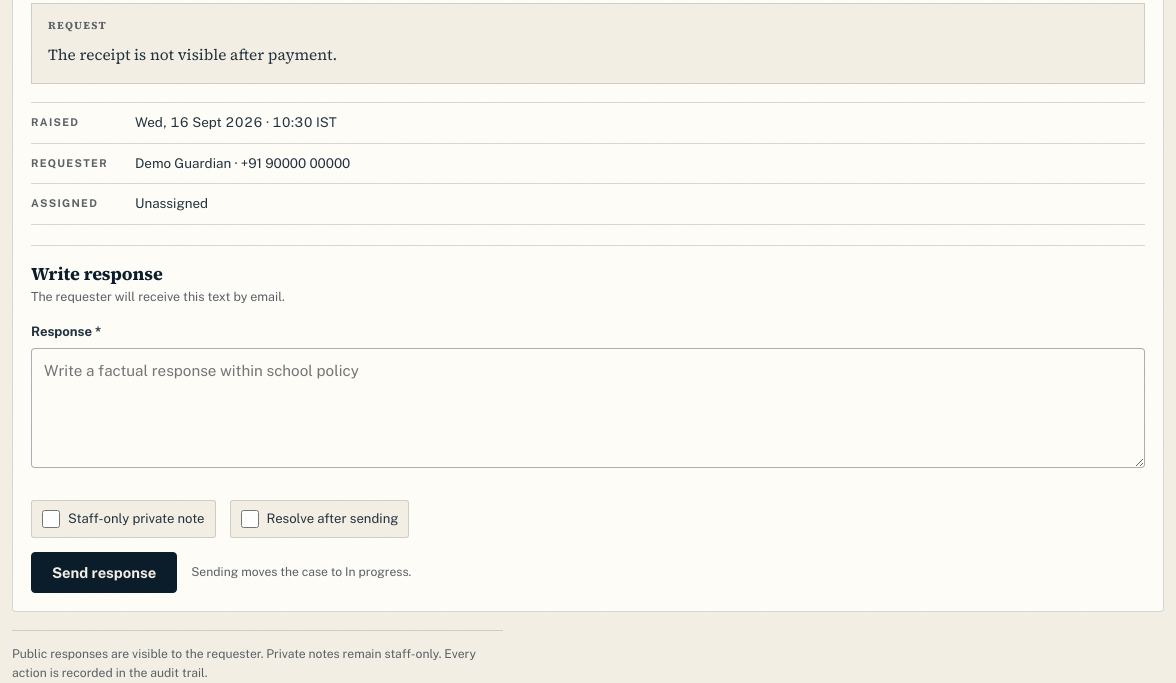
Test case: GrievanceInbox › records a response with the signed-in staff display name
(page scrolled)
In the text box labelled "Response *": (588, 408) [31,348,1145,468], type "The receipt is now available."
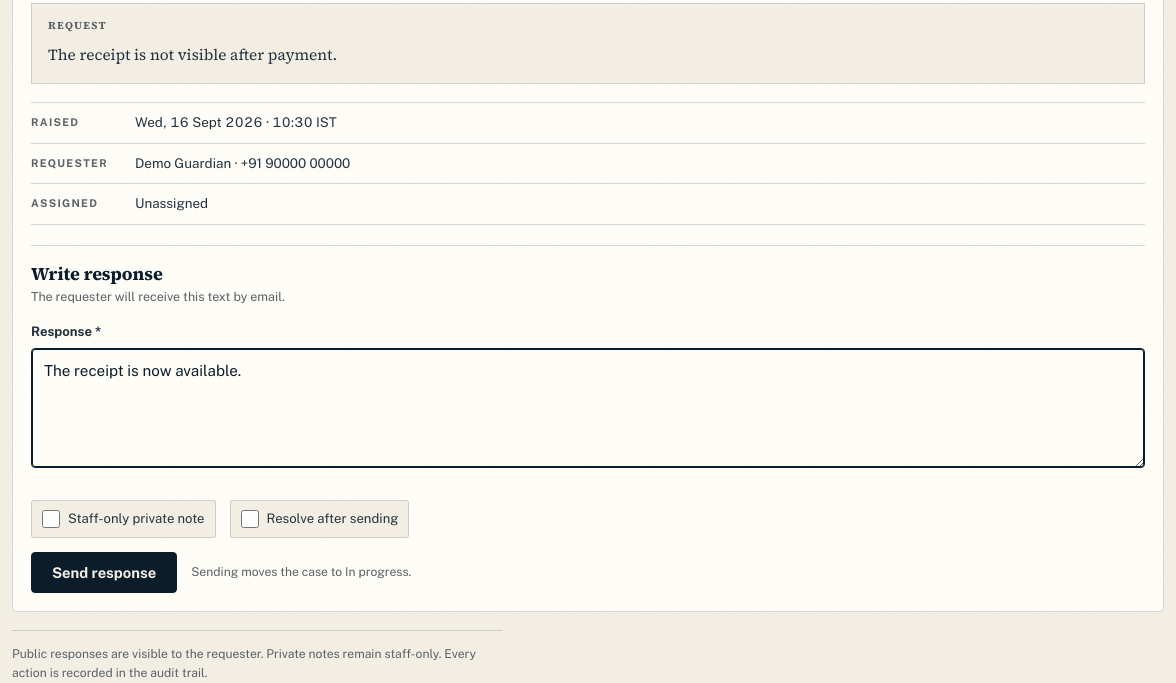
Click the checkbox labelled "Resolve after sending": (250, 518) [240,510,258,528]
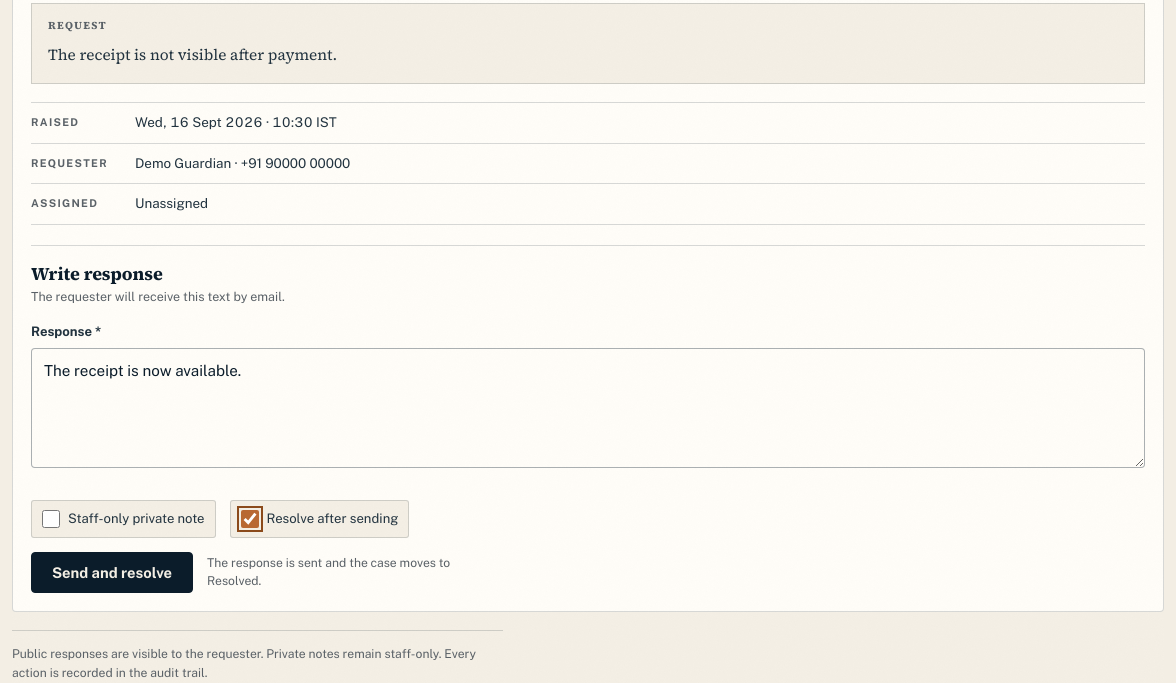
Check: the button "Send and resolve" is shown
Check: the text "The response is sent and the case moves to Resolved." is shown, box [207,555,450,588]
Click the button "Send and resolve": (112, 572) [31,552,193,593]
(page scrolled)
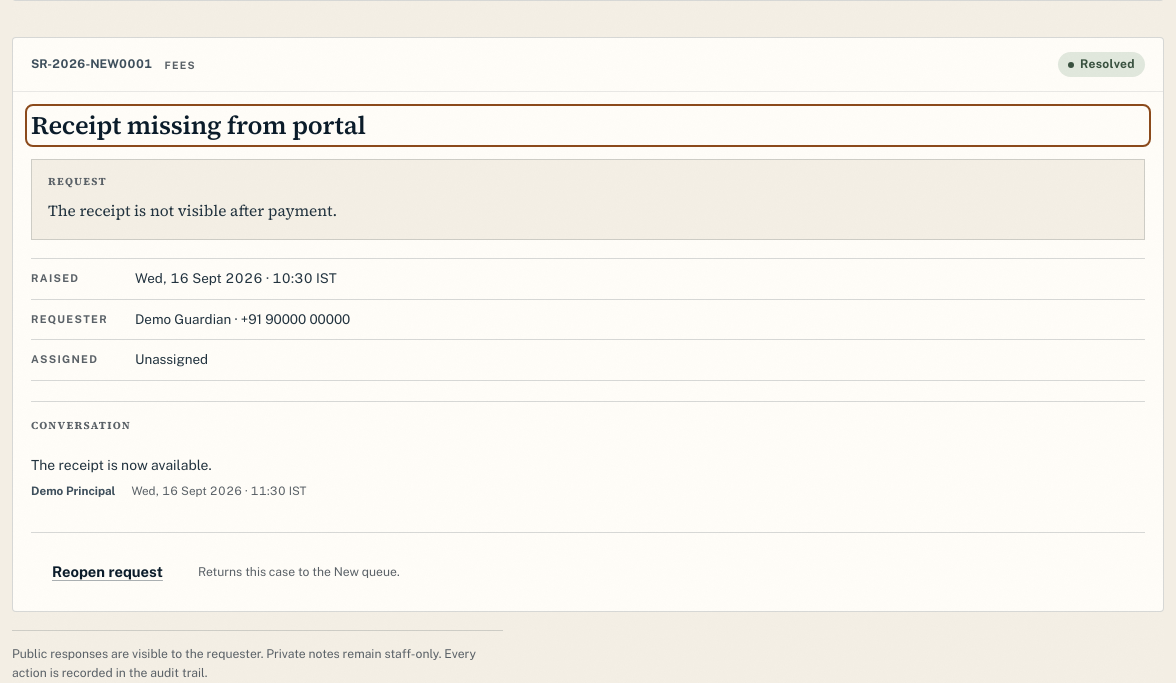
Check: the text "The receipt is now available." is shown, box [31,456,212,472]
